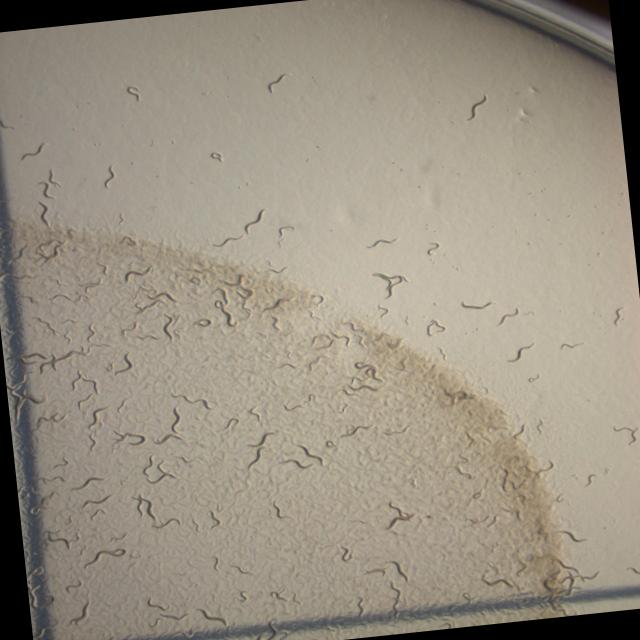filarid: (212, 208, 266, 247), (246, 430, 279, 470), (82, 547, 126, 570), (372, 271, 408, 298), (143, 456, 175, 484), (159, 407, 183, 444), (466, 94, 488, 121), (295, 444, 322, 466), (173, 394, 210, 410), (68, 600, 90, 625), (136, 495, 154, 520), (266, 73, 288, 93), (114, 353, 132, 374), (280, 458, 313, 469), (146, 597, 167, 611), (367, 239, 395, 248), (64, 580, 82, 593), (160, 612, 188, 620), (425, 242, 439, 256), (277, 225, 293, 237), (272, 502, 284, 518), (110, 533, 128, 542), (249, 406, 259, 422), (47, 533, 64, 542), (472, 301, 491, 308), (211, 151, 222, 162), (156, 520, 170, 528), (158, 520, 170, 528), (433, 321, 443, 328), (150, 619, 160, 626), (288, 406, 300, 411), (307, 394, 313, 401), (228, 418, 233, 425)
